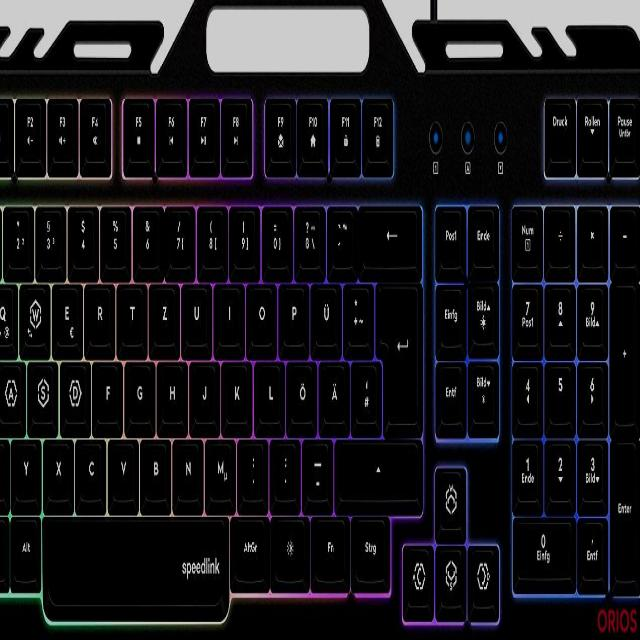0: (262, 200, 288, 267)
1: (0, 201, 12, 264)
2: (4, 199, 29, 266)
3: (35, 199, 62, 267)
4: (69, 201, 94, 266)
5: (101, 199, 127, 267)
6: (135, 206, 160, 273)
7: (166, 201, 190, 266)
8: (198, 201, 224, 268)
9: (230, 200, 256, 267)
a: (0, 354, 22, 423)
accent: (328, 201, 352, 265)
ae: (320, 355, 344, 420)
alt-left: (10, 511, 38, 581)
altgr-right: (232, 511, 265, 580)
b: (140, 431, 167, 498)
c: (76, 431, 102, 498)
caret: (0, 201, 13, 265)
comma: (238, 433, 263, 497)
d: (60, 354, 87, 423)
del: (359, 202, 416, 265)
e: (52, 277, 79, 346)
enter: (374, 276, 418, 422)
f: (94, 355, 117, 418)
g: (125, 355, 150, 420)
h: (158, 354, 183, 419)
hash: (352, 355, 376, 419)
i: (215, 278, 239, 341)
j: (191, 355, 214, 419)
k: (222, 355, 247, 419)
keyboard: (0, 48, 640, 640)
l: (255, 355, 280, 419)
less: (0, 433, 13, 497)
m: (205, 433, 232, 498)
minus: (302, 434, 328, 499)
n: (173, 431, 199, 496)
o: (247, 279, 272, 342)
oe: (288, 356, 312, 420)
p: (280, 278, 304, 342)
plus: (344, 278, 368, 343)
point: (272, 434, 296, 497)
q: (0, 277, 14, 348)
r: (85, 277, 110, 342)
s: (27, 354, 54, 424)
shift-left: (0, 434, 15, 498)
shift-lock: (0, 358, 26, 423)
shift-right: (334, 434, 418, 499)
space: (43, 508, 224, 610)
ss: (295, 202, 321, 267)
strg-left: (0, 510, 18, 582)
strg-right: (351, 511, 386, 581)
t: (118, 278, 142, 341)
tab: (0, 278, 21, 343)
u: (182, 278, 207, 342)
ue: (312, 278, 336, 343)
v: (109, 431, 134, 496)
w: (18, 276, 47, 346)
x: (43, 433, 70, 498)
y: (12, 433, 37, 497)
z: (150, 278, 174, 342)
